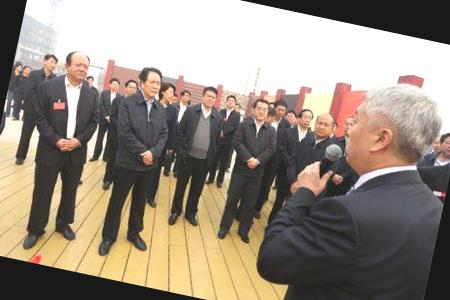no_helmet: (336, 70, 450, 196), (60, 45, 94, 84), (139, 64, 166, 102), (311, 110, 337, 143), (248, 94, 271, 121), (157, 79, 179, 104), (199, 84, 220, 108), (40, 52, 61, 76), (120, 77, 140, 100), (296, 106, 316, 128), (436, 126, 450, 157), (272, 98, 289, 120), (282, 108, 298, 128), (106, 76, 122, 94), (224, 92, 239, 110), (179, 88, 194, 105)
